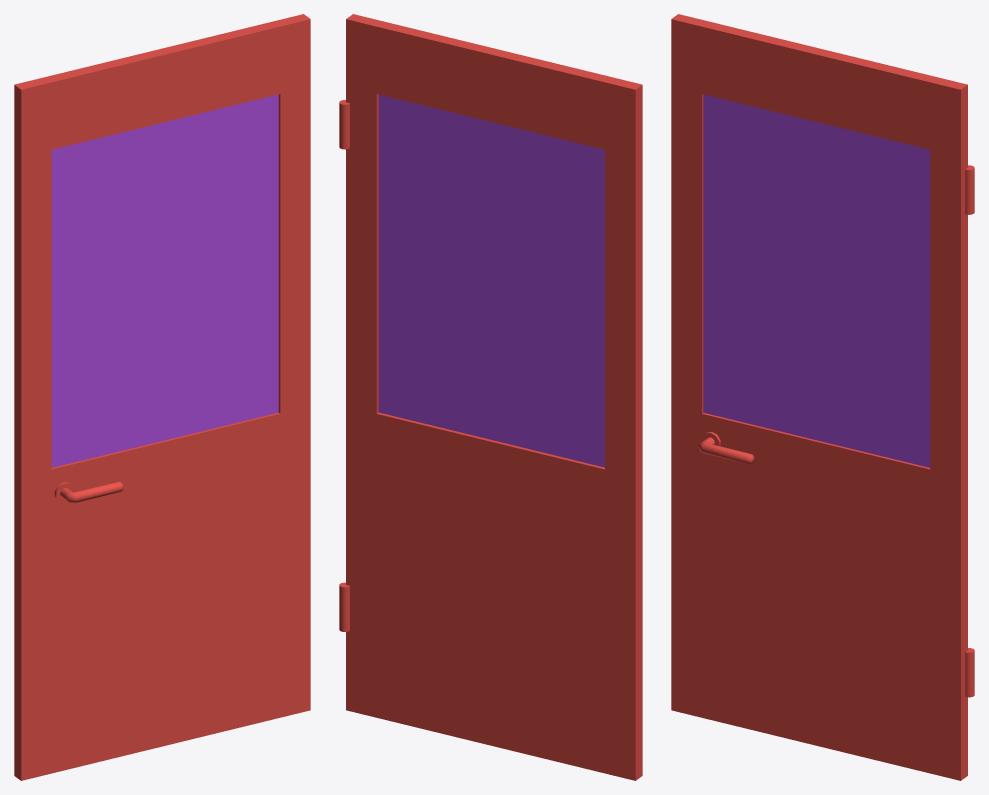
The model's file is Door.fbx.
The picture shows the model from 3 angles, left to right: view 1: azimuth 30°, elevation 25°; view 2: azimuth 150°, elevation 25°; view 3: azimuth 330°, elevation 25°; orthographic projection.
Parts seen in each view (by area): view 1: Cube.004; view 2: Cube.004; view 3: Cube.004.
Part boxes in pixels (x1,y1,x2,y2): Cube.004: (14, 14, 310, 780); Cube.004: (339, 14, 642, 780); Cube.004: (671, 14, 974, 780).
Size of the model in its own units: 91.91 by 206 by 12.25.
